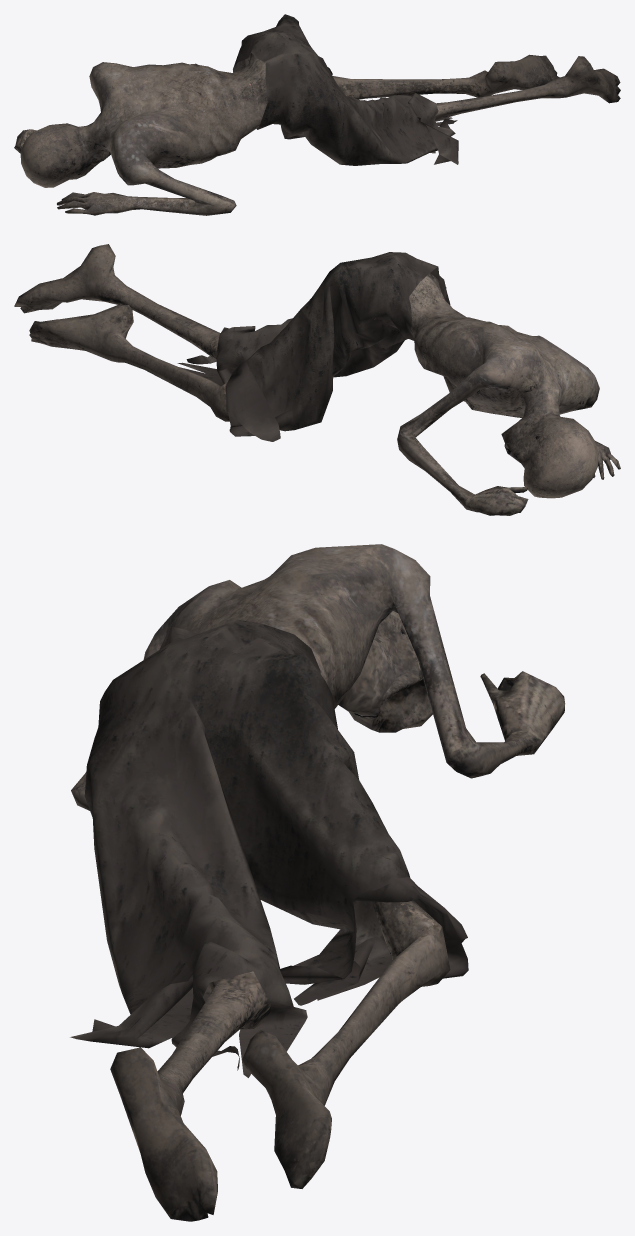
File: P_Deceased05.fbx
3 renders of one model, top to bottom at view 1: azimuth 30°, elevation 25°; view 2: azimuth 150°, elevation 25°; view 3: azimuth 270°, elevation 25°, orthographic. The views are drawn at different scales.
Visible parts, largest first — view 1: P_Deceased05; view 2: P_Deceased05; view 3: P_Deceased05.
Part boxes in pixels (box(x1,y1,x2,y2)): P_Deceased05: box(14, 14, 620, 215); P_Deceased05: box(14, 244, 620, 515); P_Deceased05: box(70, 544, 565, 1221).
Size of the model in its own units: 168 by 40.33 by 65.37.
